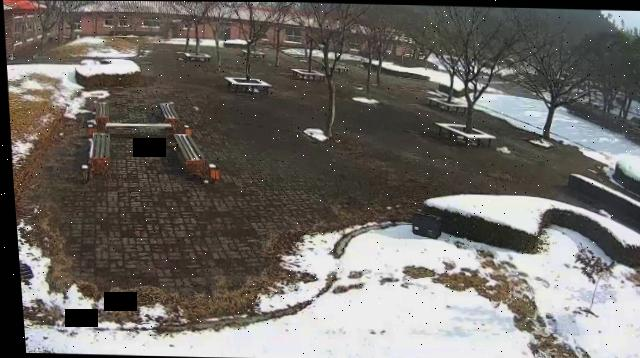bag: (408, 210, 439, 238)
